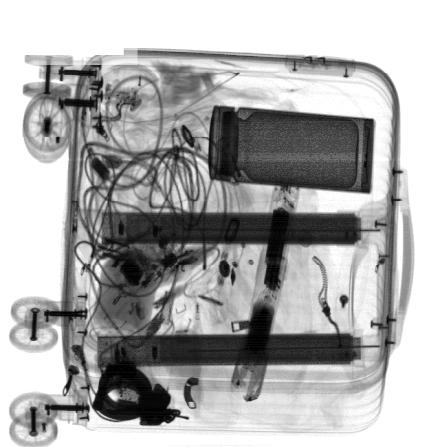Baton: (228, 175, 301, 404)
HandCuffs: (91, 359, 183, 427)
